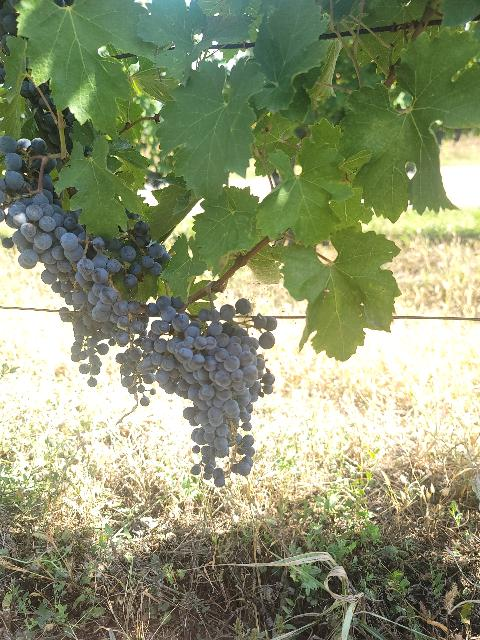grapes: (111, 295, 278, 406), (0, 136, 81, 284), (52, 272, 106, 388)
